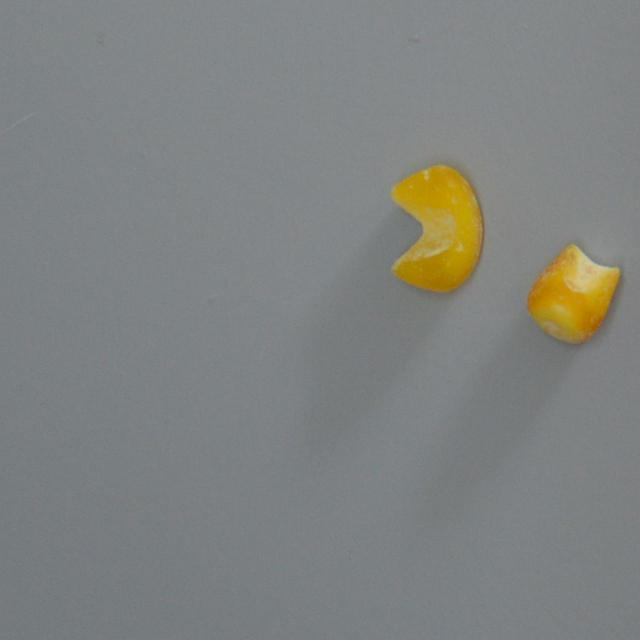dañado: (523, 238, 622, 349)
pelicula: (382, 158, 486, 300)
